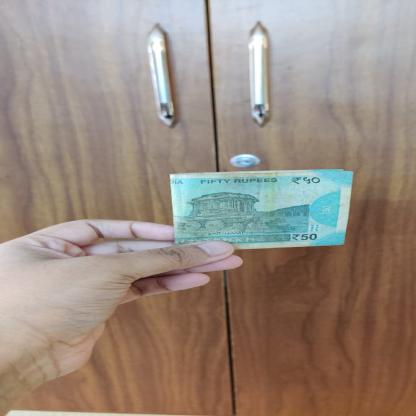New50Back: (165, 168, 359, 251)
